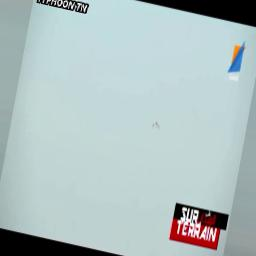Airplane: (151, 119, 160, 129)
